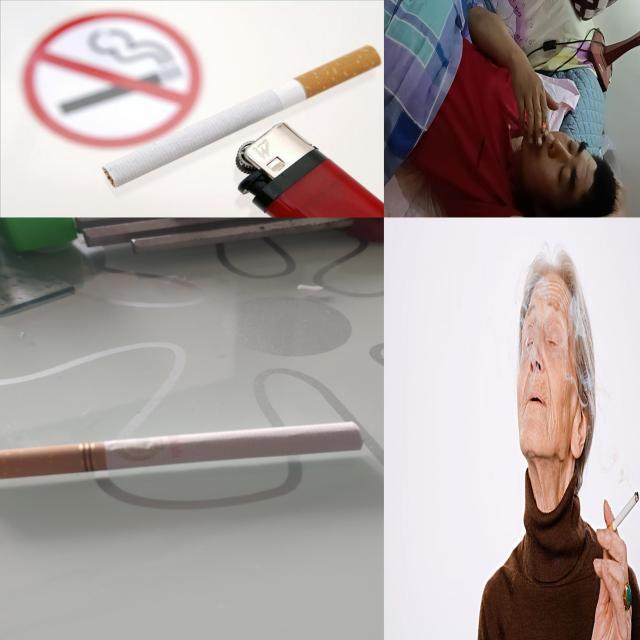cigarette: (100, 41, 382, 194), (0, 420, 364, 482), (603, 490, 640, 534), (540, 116, 548, 140)
